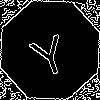Y: (25, 25, 72, 79)
